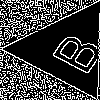B: (41, 24, 100, 77)
